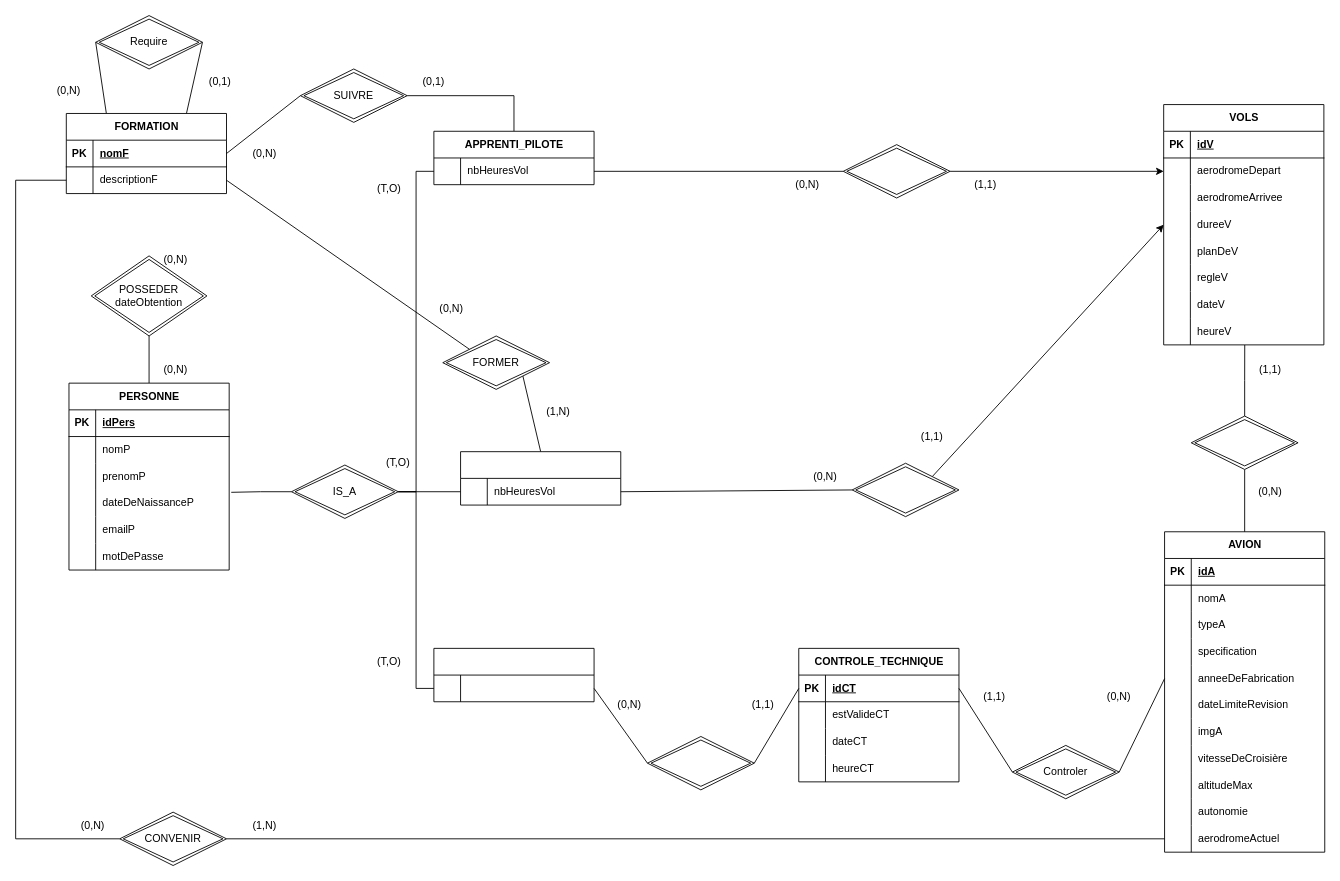
The diagram is 1340 pixels wide and 881 high, and some of its shapes have lost their labels. Here are the shapes that lost their labels. From the top down, the box of each, then its label:
(842, 144, 950, 198): Reserver
(1190, 415, 1298, 469): Concerner
(460, 451, 621, 505): INSTRUCTEUR
(851, 462, 959, 517): Encadrer
(433, 647, 594, 702): TECHNICIEN
(647, 736, 754, 790): Procéder
